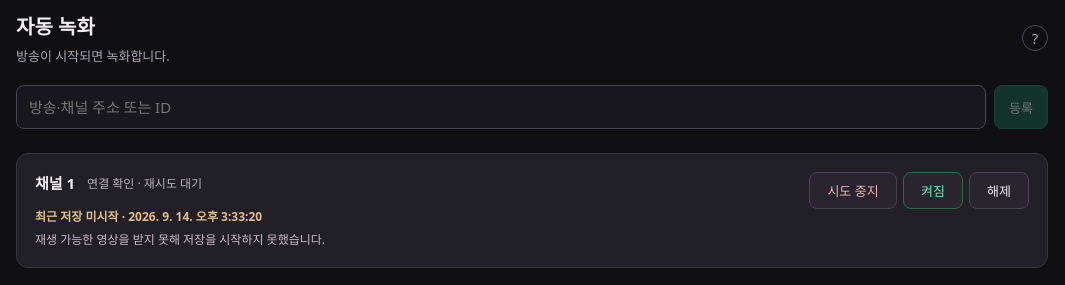
automatic recording registration › keeps the failure reason after stopping or remounting without leaking source diagnostics
What coordinates should you click on to do the following:
click the button "시도 중지"
I would click on:
 (853, 190)
Its box is left=809, top=172, right=897, bottom=209.
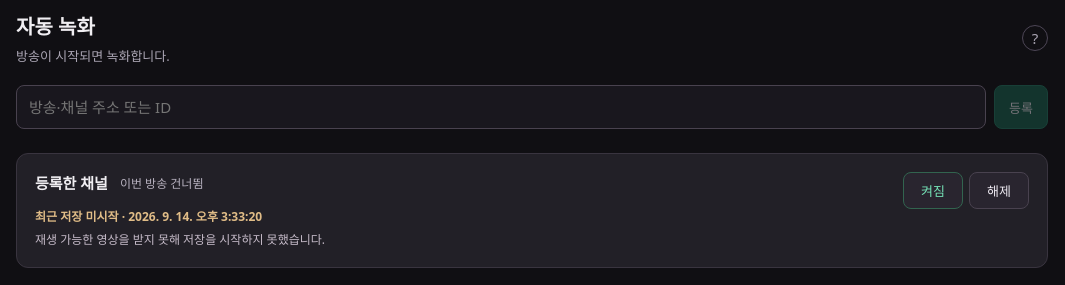
Expected: the text "재생 가능한 영상을 받지 못해 저장을 시작하지 못했습니다." is shown, left=35, top=231, right=325, bottom=248
Result: the text "이번 방송 건너뜀" is shown at left=120, top=174, right=203, bottom=192
